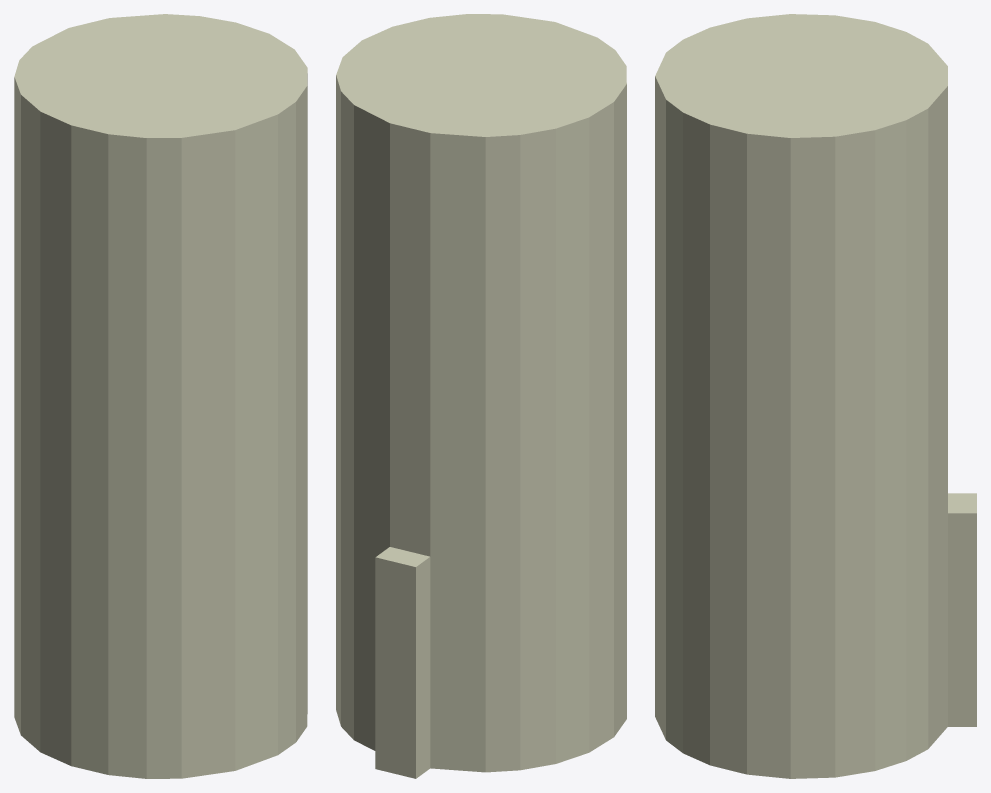
The model's file is breather_demo.glb.
The picture shows the model from 3 angles, left to right: view 1: azimuth 30°, elevation 25°; view 2: azimuth 150°, elevation 25°; view 3: azimuth 270°, elevation 25°; orthographic projection.
Visible parts, largest first — view 1: breather_20_imp; view 2: breather_20_imp; view 3: breather_20_imp.
Part boxes in pixels (x1,y1,x2,y2): breather_20_imp: (14,14,307,778); breather_20_imp: (336,14,626,778); breather_20_imp: (655,14,976,778).
Size of the model in its own units: 1.25 by 3 by 1.37.
